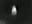person: (11, 5, 18, 18)
